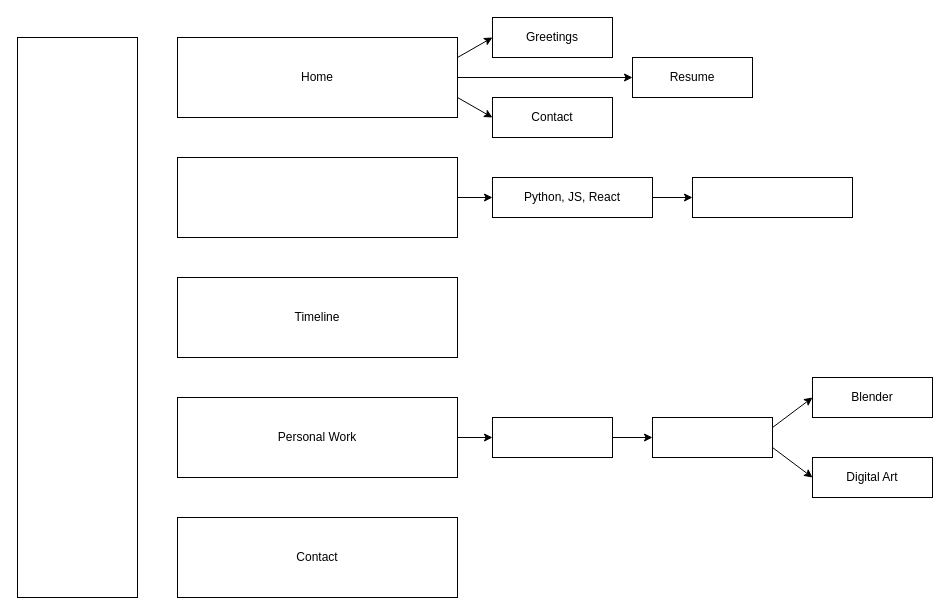
Some shapes in this 950 by 615 pixel diagram are drawn without their labels. Each missing label, with the box of its shape:
Hobbies: (652, 416, 772, 458)
Julia, Rust: (692, 176, 852, 218)
Learnings: (176, 156, 458, 238)
Menu (Hide): (16, 36, 138, 598)
Projects: (492, 416, 612, 458)
